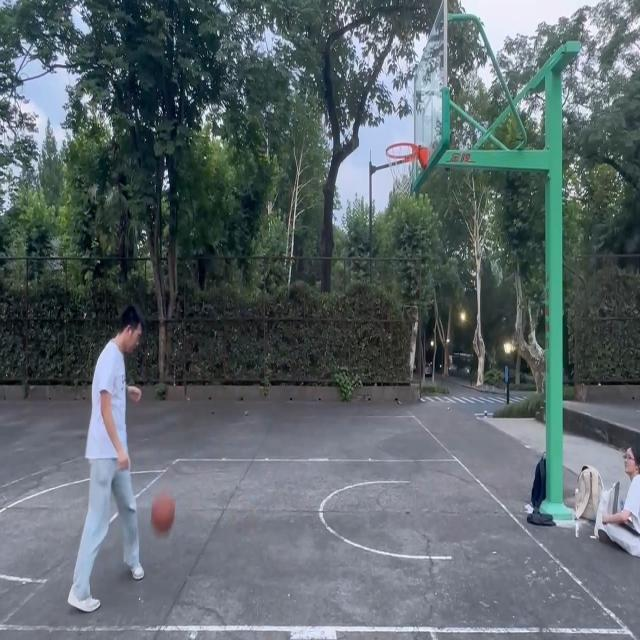basketball: (384, 143, 431, 197)
rim: (150, 491, 174, 533)
